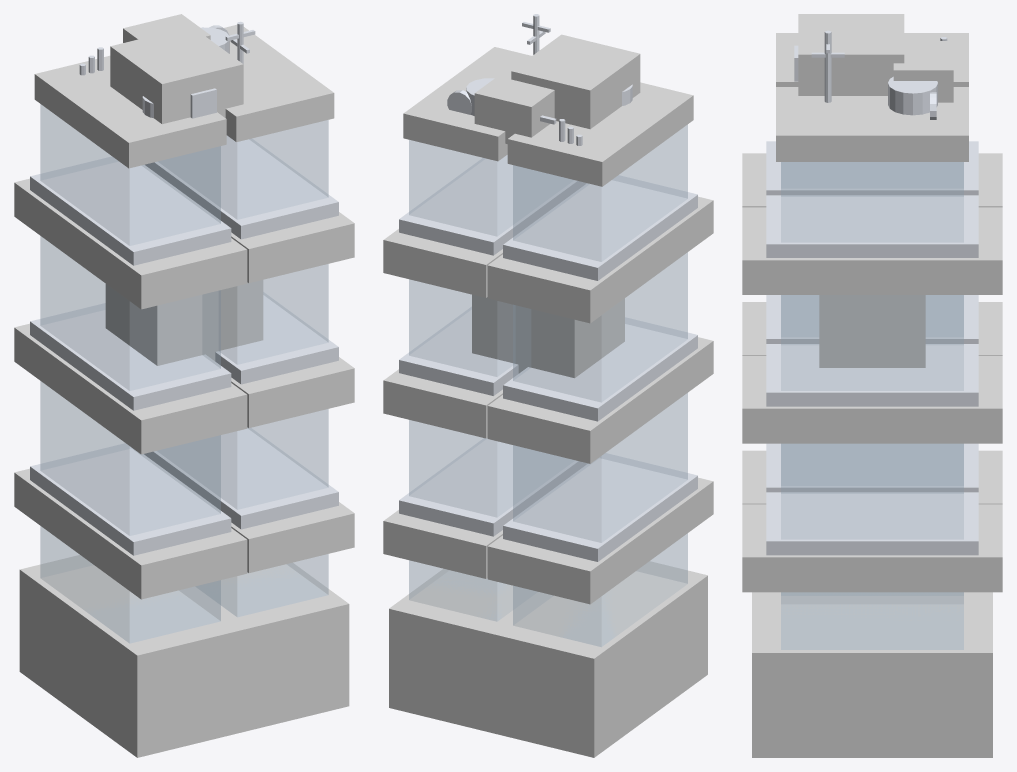
The model's file is lippo-centre.glb.
3 renders of one model, left to right at view 1: azimuth 30°, elevation 25°; view 2: azimuth 150°, elevation 25°; view 3: azimuth 270°, elevation 25°, orthographic. The views are drawn at different scales.
Parts seen in each view (by area): view 1: lippo tower -1, lippo podium, lippo tower 1, lippo arm collar -1, lippo arm collar -1.002, lippo arm collar 1, lippo arm collar 1.002, lippo crown -1, lippo arm -1, lippo arm -1.001, lippo arm -1.002, lippo arm collar -1.001 (+9 smaller); view 2: lippo tower -1, lippo podium, lippo tower 1, lippo arm collar -1, lippo arm collar -1.002, lippo arm collar 1, lippo arm collar 1.002, lippo crown -1, lippo arm -1.001, lippo arm -1, lippo arm -1.002, lippo arm collar -1.001 (+8 smaller); view 3: lippo tower 1, lippo podium, lippo arm collar 1, lippo arm collar 1.002, lippo arm 1, lippo arm 1.001, lippo arm 1.002, lippo crown 1, lippo arm collar 1.001, lippo arm collar -1, lippo lift overrun, lippo link (+10 smaller).
Boxes of the visible parts, x1=… form: lippo tower -1: x1=40, y1=104, x2=220, y2=643; lippo podium: x1=19, y1=555, x2=349, y2=757; lippo tower 1: x1=196, y1=120, x2=328, y2=616; lippo arm collar -1: x1=30, y1=443, x2=231, y2=555; lippo arm collar -1.002: x1=30, y1=156, x2=231, y2=265; lippo arm collar 1: x1=144, y1=427, x2=338, y2=529; lippo arm collar 1.002: x1=145, y1=135, x2=338, y2=239; lippo crown -1: x1=34, y1=55, x2=226, y2=168; lippo arm -1: x1=14, y1=468, x2=247, y2=599; lippo arm -1.001: x1=14, y1=323, x2=247, y2=454; lippo arm -1.002: x1=14, y1=178, x2=247, y2=309; lippo arm collar -1.001: x1=30, y1=303, x2=231, y2=410; lippo tower -1: x1=513, y1=125, x2=687, y2=646; lippo podium: x1=389, y1=561, x2=707, y2=757; lippo tower 1: x1=409, y1=140, x2=514, y2=621; lippo arm collar -1: x1=503, y1=453, x2=697, y2=561; lippo arm collar -1.002: x1=503, y1=175, x2=697, y2=280; lippo arm collar 1: x1=399, y1=438, x2=587, y2=536; lippo arm collar 1.002: x1=399, y1=155, x2=586, y2=255; lippo crown -1: x1=507, y1=82, x2=693, y2=186; lippo arm -1.001: x1=487, y1=337, x2=713, y2=463; lippo arm -1: x1=487, y1=477, x2=713, y2=604; lippo arm -1.002: x1=487, y1=196, x2=713, y2=323; lippo arm collar -1.001: x1=503, y1=317, x2=697, y2=421; lippo tower 1: x1=781, y1=162, x2=963, y2=649; lippo podium: x1=752, y1=592, x2=992, y2=757; lippo arm collar 1: x1=766, y1=492, x2=978, y2=555; lippo arm collar 1.002: x1=766, y1=195, x2=978, y2=257; lippo arm 1: x1=742, y1=504, x2=1002, y2=592; lippo arm 1.001: x1=742, y1=355, x2=1002, y2=443; lippo arm 1.002: x1=742, y1=207, x2=1002, y2=294; lippo crown 1: x1=776, y1=87, x2=968, y2=161; lippo arm collar 1.001: x1=766, y1=344, x2=978, y2=406; lippo arm collar -1: x1=766, y1=443, x2=978, y2=492; lippo lift overrun: x1=798, y1=14, x2=904, y2=95; lippo link: x1=819, y1=295, x2=925, y2=367.
Size of the model in its own units: 2.62 by 7.9 by 2.7.
